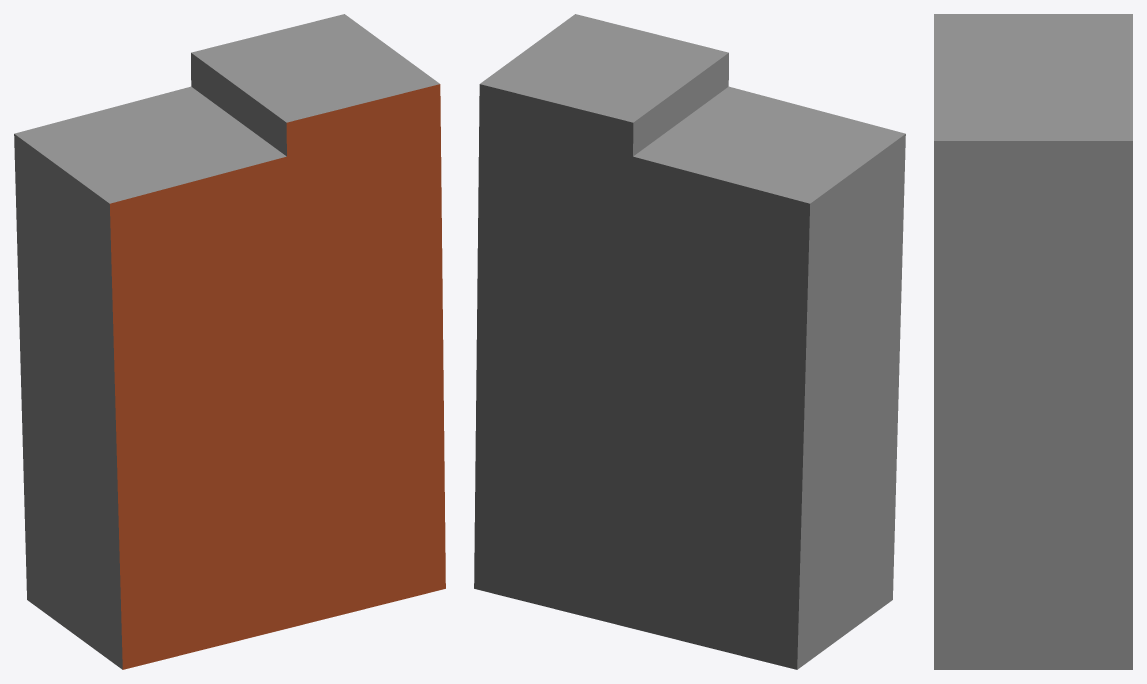
The model's file is construction_3262_assumed_A_Casa_h6m.obj.
The picture shows the model from 3 angles, left to right: view 1: azimuth 30°, elevation 25°; view 2: azimuth 150°, elevation 25°; view 3: azimuth 270°, elevation 25°; orthographic projection. The views are drawn at different scales.
Visible parts, largest first — view 1: construction_3262_assumed_A_Casa; view 2: construction_3262_assumed_A_Casa; view 3: construction_3262_assumed_A_Casa.
Part boxes in pixels (x1=…): construction_3262_assumed_A_Casa: x1=14, y1=14, x2=445, y2=669; construction_3262_assumed_A_Casa: x1=474, y1=14, x2=905, y2=669; construction_3262_assumed_A_Casa: x1=934, y1=14, x2=1132, y2=669.
Size of the model in its own units: 12.16 by 17.58 by 6.
